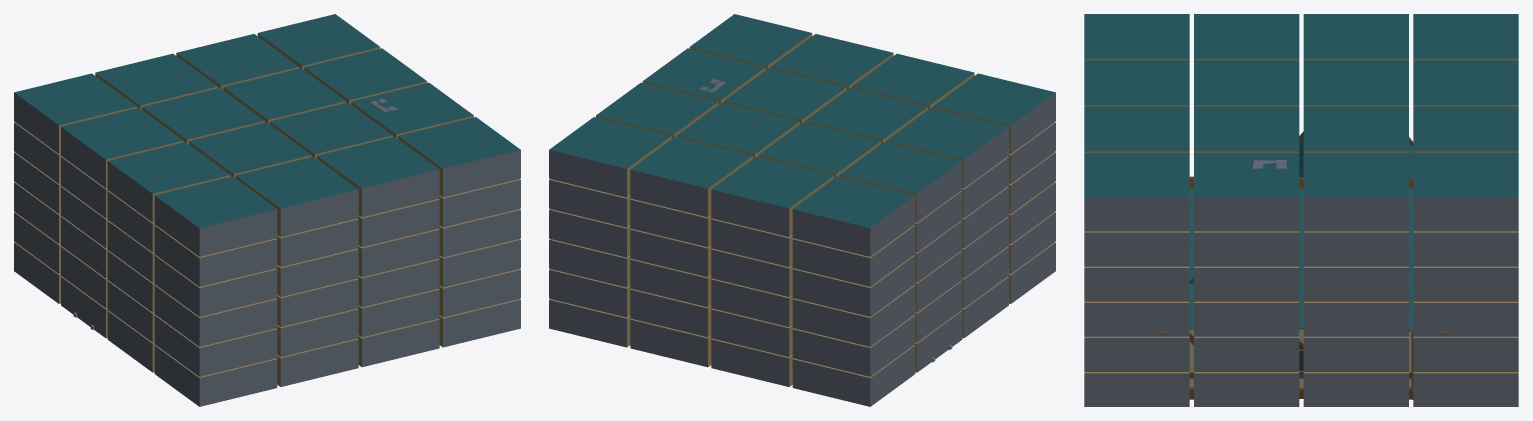
File: Stable_destructible.gltf
The picture shows the model from 3 angles, left to right: view 1: azimuth 30°, elevation 25°; view 2: azimuth 150°, elevation 25°; view 3: azimuth 270°, elevation 25°; orthographic projection. The views are drawn at different scales.
Visible parts, largest first — view 1: block_f5_r3_c0, block_f5_r3_c1, block_f5_r3_c3, block_f5_r3_c2, block_f5_r2_c0, block_f5_r0_c0, block_f5_r1_c0, block_f5_r1_c3, block_f0_r3_c0, block_f1_r3_c0, block_f2_r3_c0, block_f3_r3_c0 (+39 smaller); view 2: block_f5_r0_c0, block_f5_r0_c1, block_f5_r0_c3, block_f5_r0_c2, block_f5_r1_c0, block_f5_r2_c0, block_f5_r3_c0, block_f5_r2_c3, block_f0_r0_c0, block_f1_r0_c0, block_f2_r0_c0, block_f3_r0_c0 (+39 smaller); view 3: block_f5_r1_c3, block_f5_r2_c3, block_f5_r0_c3, block_f5_r3_c3, block_f5_r0_c0, block_f5_r0_c1, block_f5_r0_c2, block_f5_r1_c1, block_f5_r2_c1, block_f5_r3_c0, block_f5_r3_c1, block_f5_r3_c2 (+24 smaller).
Boxes of the visible parts, x1=… form: block_f5_r3_c0: x1=154, y1=176, x2=277, y2=256; block_f5_r3_c1: x1=235, y1=156, x2=358, y2=236; block_f5_r3_c3: x1=398, y1=117, x2=520, y2=197; block_f5_r3_c2: x1=317, y1=136, x2=439, y2=217; block_f5_r2_c0: x1=107, y1=142, x2=230, y2=222; block_f5_r0_c0: x1=14, y1=73, x2=136, y2=153; block_f5_r1_c0: x1=61, y1=107, x2=183, y2=188; block_f5_r1_c3: x1=304, y1=48, x2=427, y2=104; block_f0_r3_c0: x1=154, y1=345, x2=277, y2=406; block_f1_r3_c0: x1=154, y1=315, x2=277, y2=376; block_f2_r3_c0: x1=154, y1=285, x2=277, y2=346; block_f3_r3_c0: x1=154, y1=255, x2=277, y2=316; block_f5_r0_c0: x1=792, y1=176, x2=915, y2=256; block_f5_r0_c1: x1=711, y1=156, x2=834, y2=236; block_f5_r0_c3: x1=549, y1=117, x2=671, y2=197; block_f5_r0_c2: x1=630, y1=136, x2=752, y2=217; block_f5_r1_c0: x1=839, y1=142, x2=962, y2=222; block_f5_r2_c0: x1=886, y1=107, x2=1008, y2=188; block_f5_r3_c0: x1=933, y1=73, x2=1055, y2=153; block_f5_r2_c3: x1=642, y1=48, x2=765, y2=104; block_f0_r0_c0: x1=792, y1=345, x2=915, y2=406; block_f1_r0_c0: x1=792, y1=315, x2=915, y2=376; block_f2_r0_c0: x1=792, y1=285, x2=915, y2=346; block_f3_r0_c0: x1=792, y1=255, x2=915, y2=316; block_f5_r1_c3: x1=1301, y1=153, x2=1411, y2=231; block_f5_r2_c3: x1=1191, y1=153, x2=1301, y2=231; block_f5_r0_c3: x1=1411, y1=153, x2=1518, y2=231; block_f5_r3_c3: x1=1084, y1=153, x2=1191, y2=231; block_f5_r0_c0: x1=1413, y1=14, x2=1518, y2=60; block_f5_r0_c1: x1=1413, y1=60, x2=1518, y2=106; block_f5_r0_c2: x1=1413, y1=106, x2=1518, y2=152; block_f5_r1_c1: x1=1303, y1=60, x2=1408, y2=106; block_f5_r2_c1: x1=1194, y1=60, x2=1299, y2=106; block_f5_r3_c0: x1=1084, y1=14, x2=1189, y2=60; block_f5_r3_c1: x1=1084, y1=60, x2=1189, y2=106; block_f5_r3_c2: x1=1084, y1=106, x2=1189, y2=152.
Bounding box in the file's own units: 11.5 × 6.09 × 11.38.
